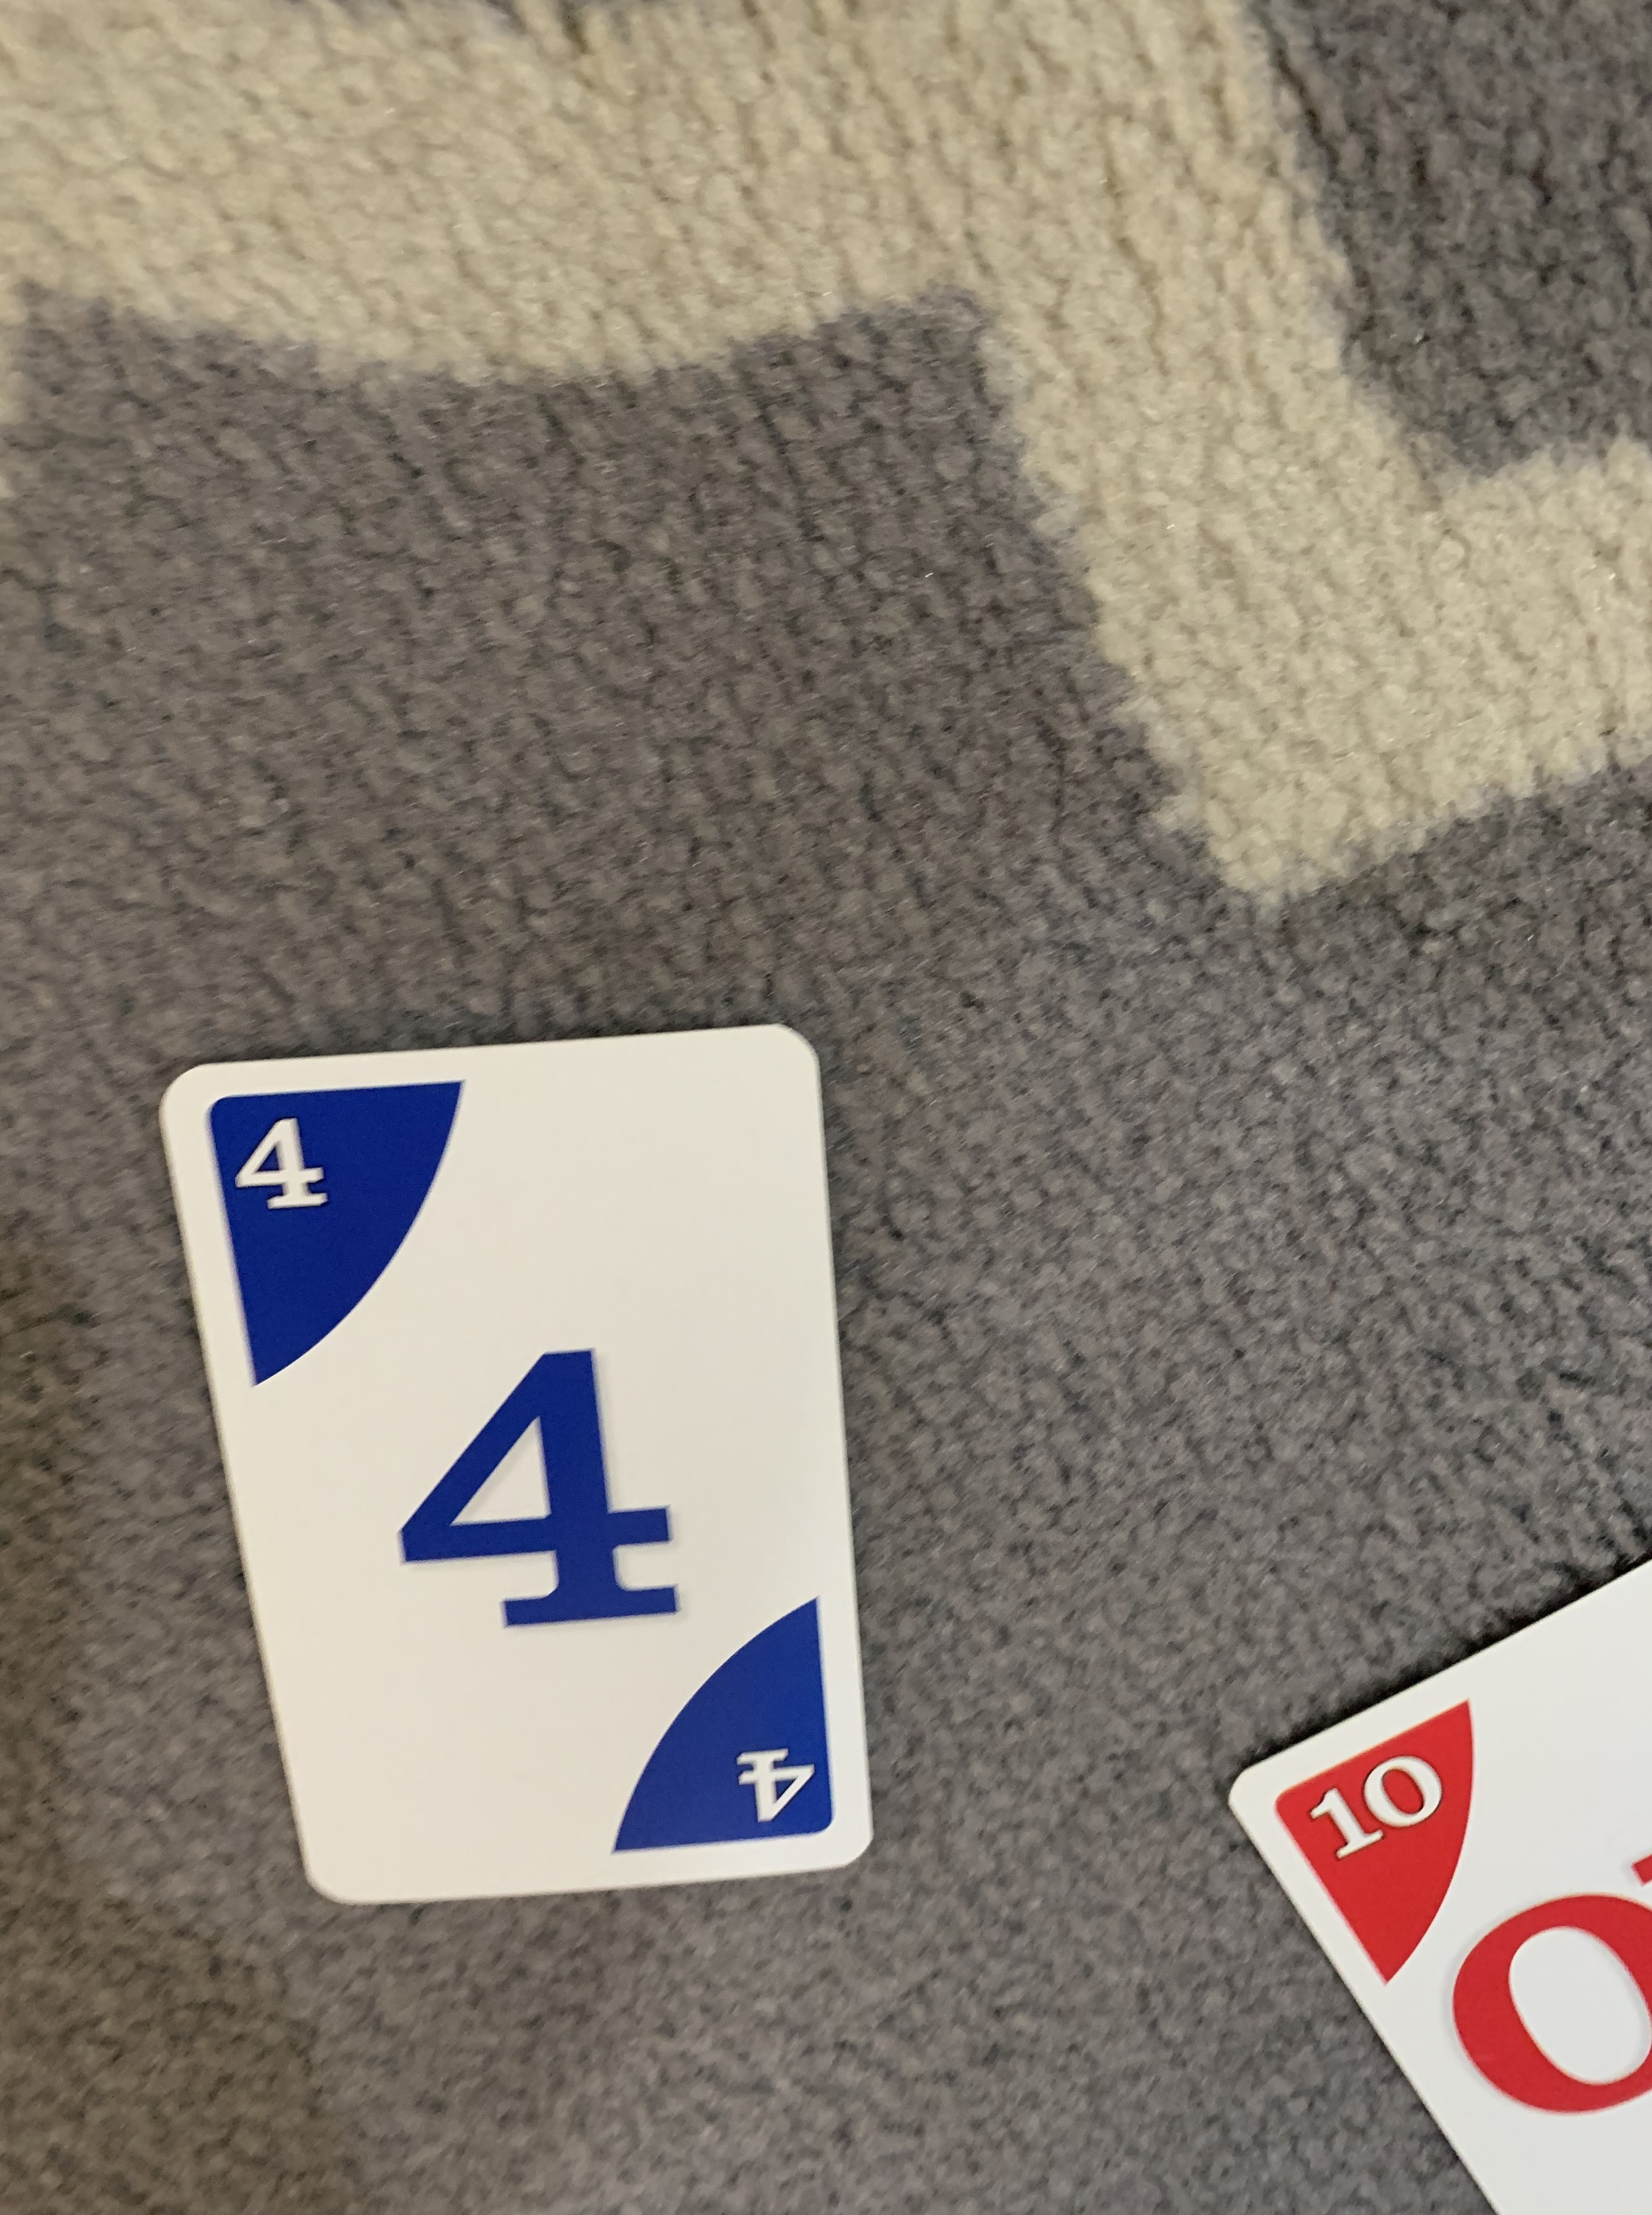four: (141, 998, 901, 1948)
